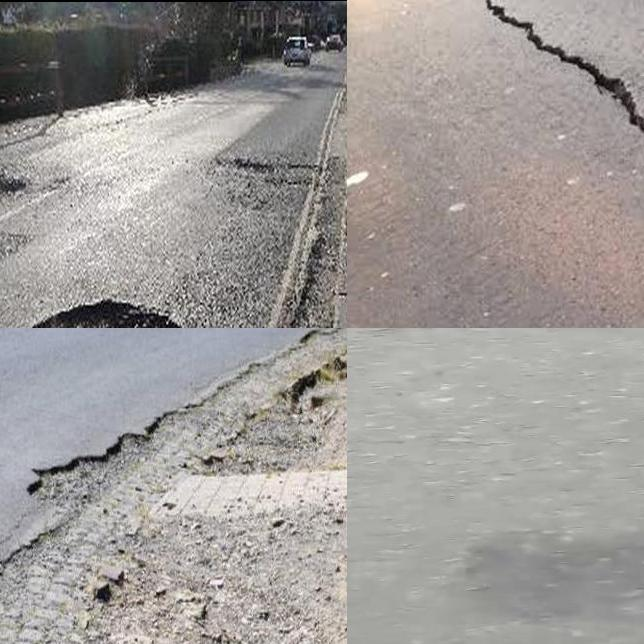Lubang: (28, 297, 176, 328), (0, 176, 33, 201)
Melintang: (347, 328, 644, 360)
Memanjang: (476, 0, 644, 149)
Pinggir: (0, 328, 347, 644)
